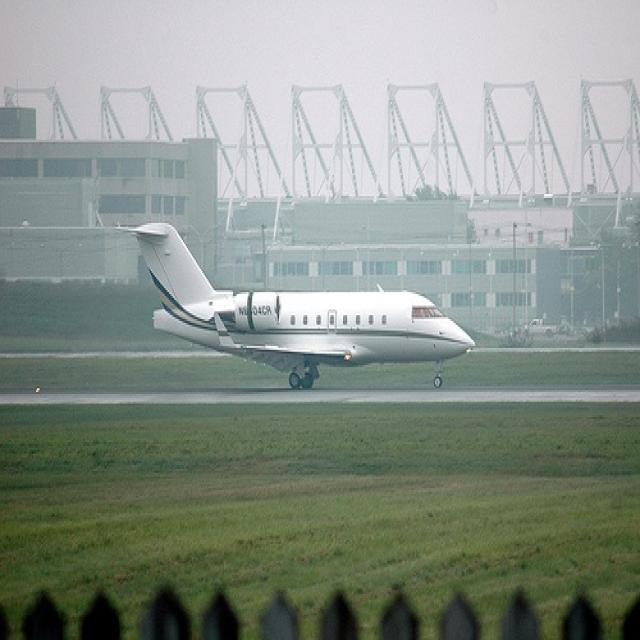aeroplane: (117, 223, 476, 388)
